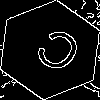C: (25, 25, 86, 83)
